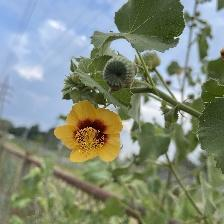indian mallow: (57, 101, 127, 165)
